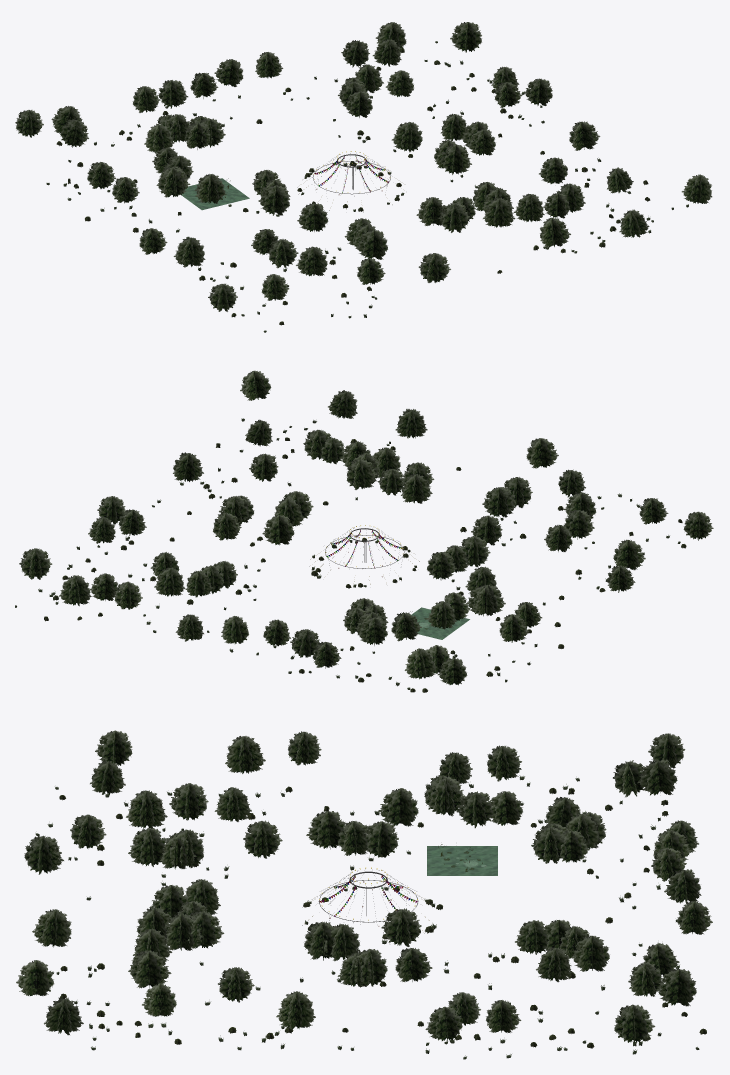
Rendered from passthrough.obj.
3 views of the same model, one above another, from view 1: azimuth 30°, elevation 25°; view 2: azimuth 150°, elevation 25°; view 3: azimuth 270°, elevation 25° (orthographic). The views are drawn at different scales.
Visible parts, largest first — view 1: Leaves, Foiliage, Plane.010; view 2: Leaves, Foiliage, Plane.010; view 3: Leaves, Foiliage, Plane.010.
Boxes of the visible parts, bbox=[...] form: Leaves: bbox=[15, 22, 712, 311]; Foiliage: bbox=[46, 41, 688, 332]; Plane.010: bbox=[182, 178, 249, 210]; Leaves: bbox=[19, 370, 713, 685]; Foiliage: bbox=[15, 418, 686, 692]; Plane.010: bbox=[411, 607, 469, 639]; Leaves: bbox=[16, 730, 712, 1043]; Foiliage: bbox=[29, 775, 706, 1059]; Plane.010: bbox=[427, 846, 497, 875].
Size of the model in its own units: 144 by 17.49 by 142.
8 materials, 8 textured.
